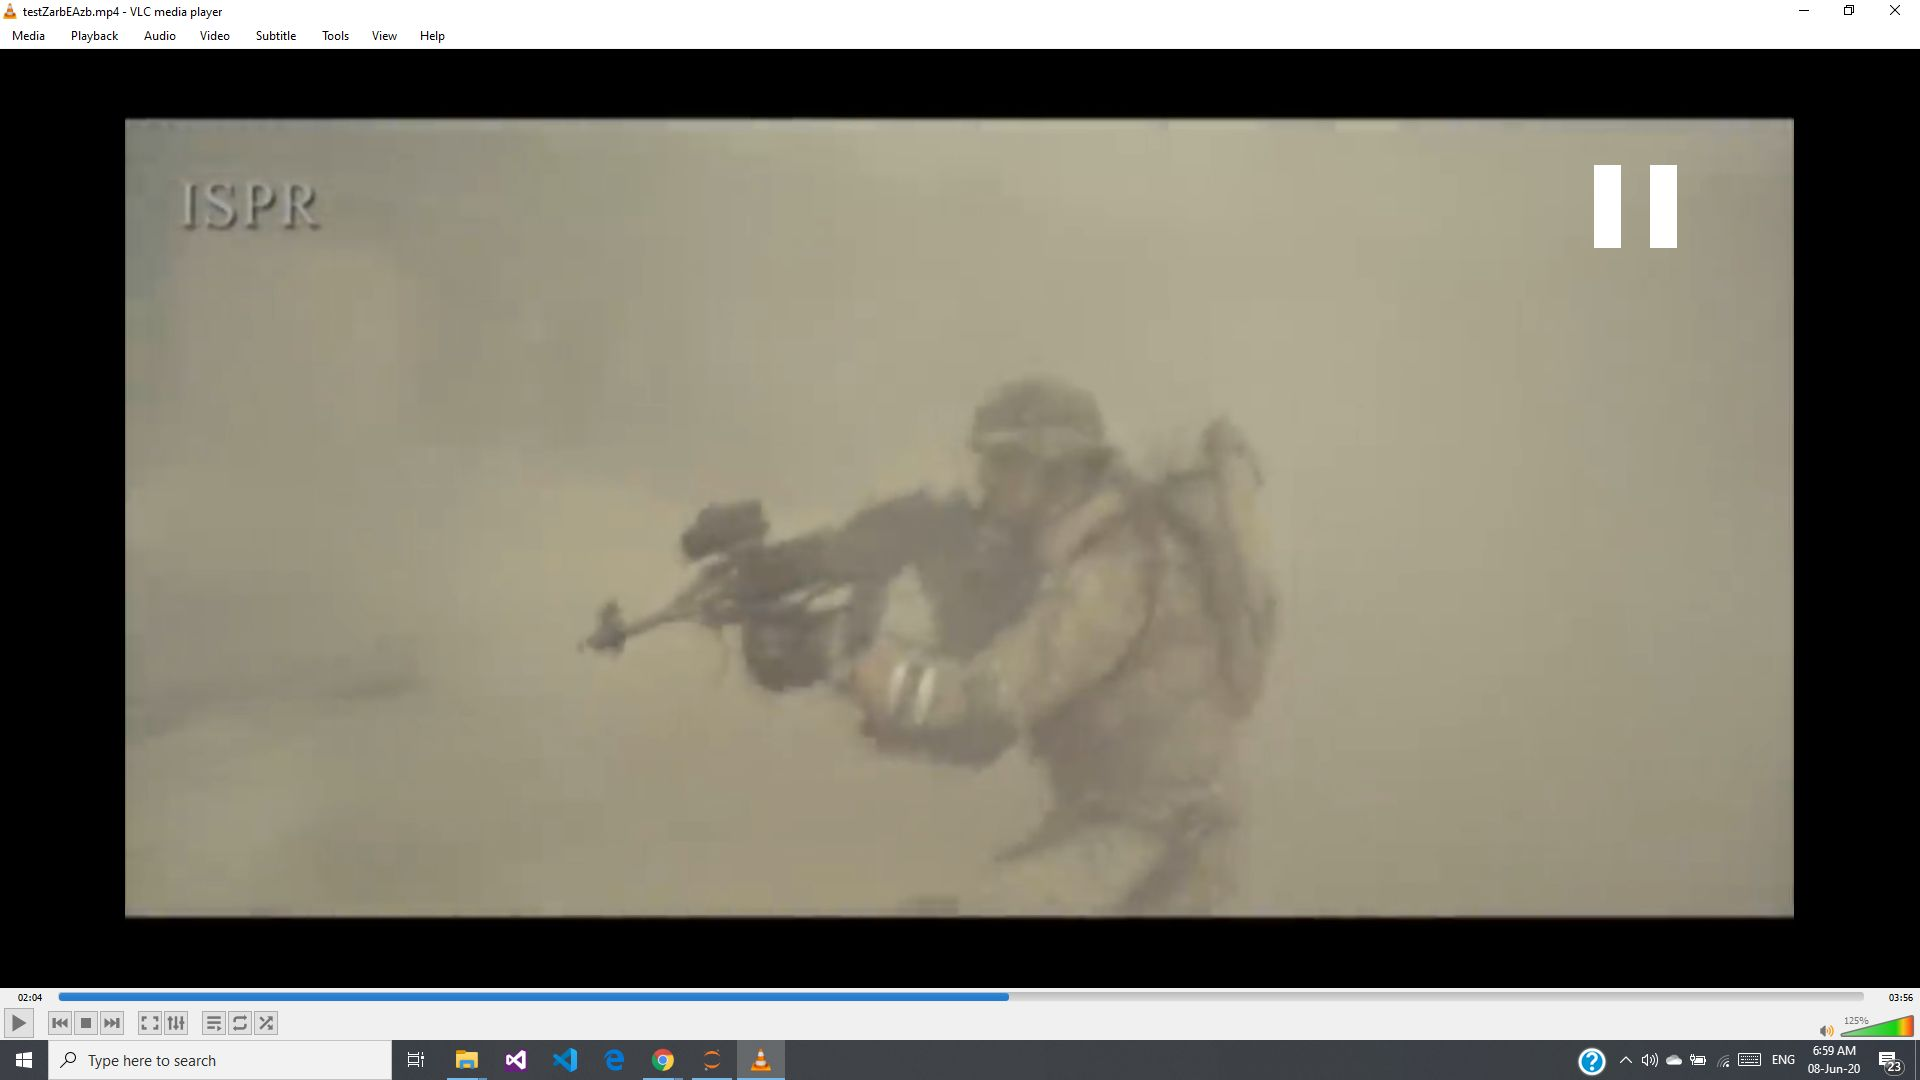gun: (535, 464, 1036, 657)
uniform: (911, 322, 1304, 913)
